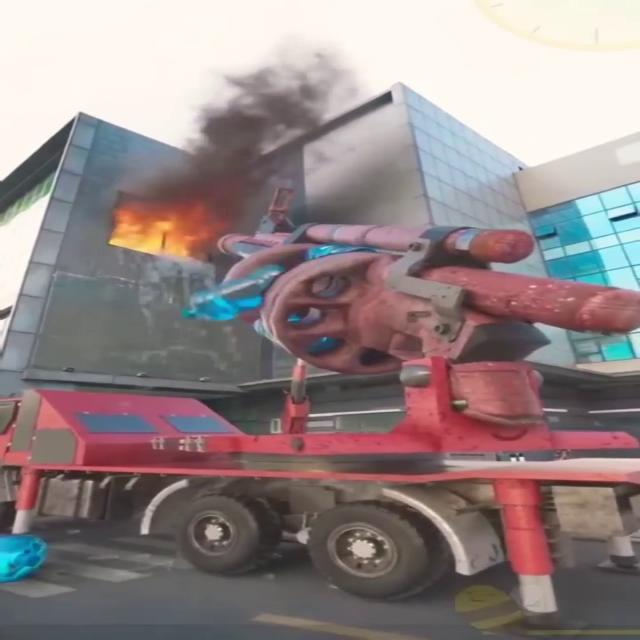Fire: (98, 198, 216, 266)
Smoke: (146, 30, 372, 202)
